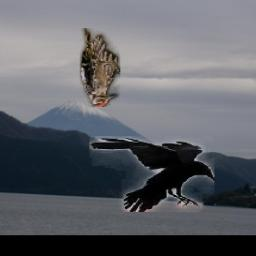Crow: (90, 137, 216, 213)
Woodpecker: (80, 28, 120, 107)
